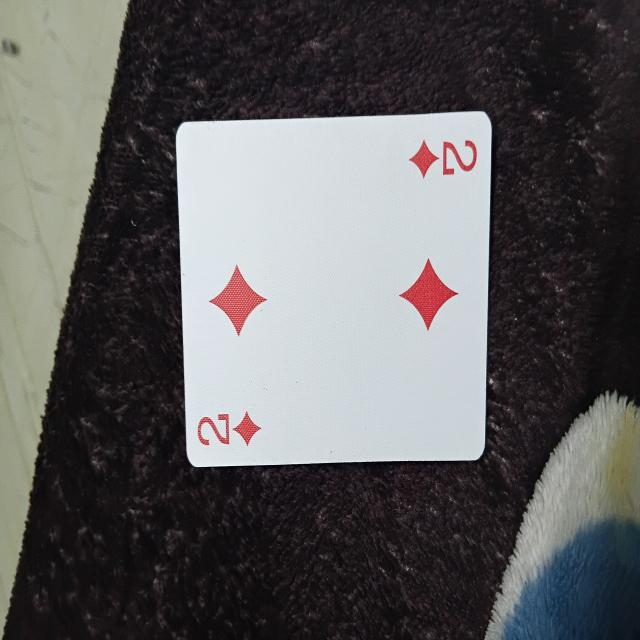2D: (178, 120, 488, 458)
